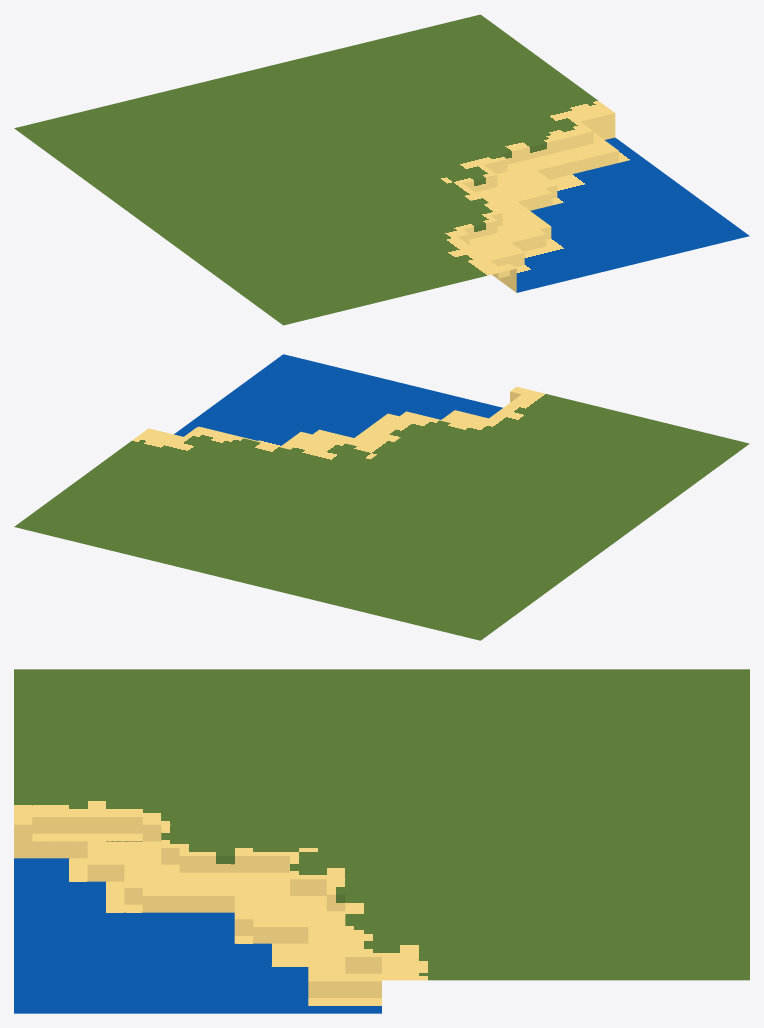
Rendered from LLWL(1).glb.
3 renders of one model, top to bottom at view 1: azimuth 30°, elevation 25°; view 2: azimuth 150°, elevation 25°; view 3: azimuth 270°, elevation 25°, orthographic. The views are drawn at different scales.
Parts seen in each view (by area): view 1: model_0.018; view 2: model_0.018; view 3: model_0.018.
Boxes of the visible parts, x1,y1,x2,y2 form: model_0.018: (14,14,749,325); model_0.018: (14,354,749,640); model_0.018: (14,669,749,1013).
Size of the model in its own units: 80 by 4 by 80.
1 material, 1 textured.
